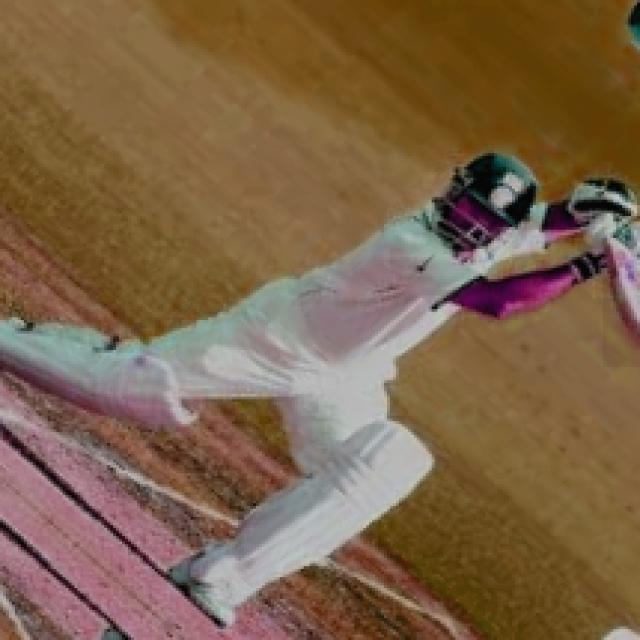bat: (606, 235, 640, 354)
